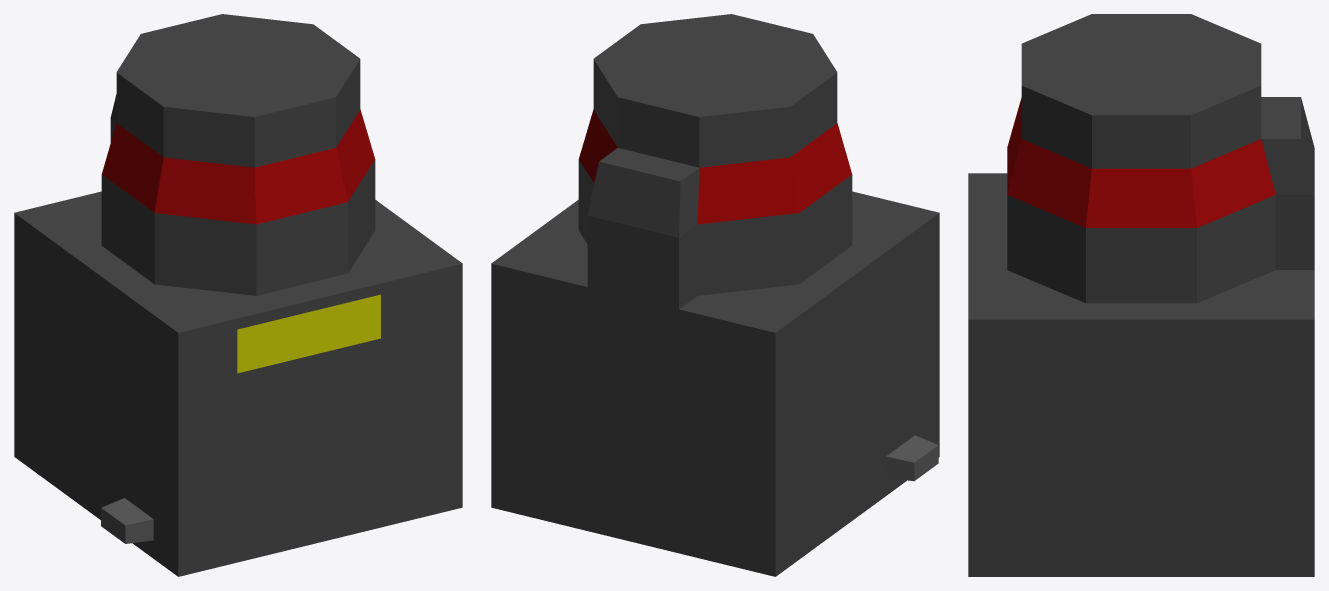
Rendered from hokuyo.dae.
The picture shows the model from 3 angles, left to right: view 1: azimuth 30°, elevation 25°; view 2: azimuth 150°, elevation 25°; view 3: azimuth 270°, elevation 25°; orthographic projection. The views are drawn at different scales.
Visible parts, largest first — view 1: Mesh_002, Mesh_003, Mesh, Mesh_001; view 2: Mesh_002, Mesh_003, Mesh_001; view 3: Mesh_002, Mesh_003.
Boxes of the visible parts, x1,y1,x2,y2 form: Mesh_002: (14,14,462,576); Mesh_003: (102,109,374,224); Mesh: (237,294,380,373); Mesh_001: (101,498,153,543); Mesh_002: (491,14,939,576); Mesh_003: (579,109,851,224); Mesh_001: (886,435,938,481); Mesh_002: (968,14,1314,576); Mesh_003: (1007,98,1275,227).
Bounding box in the file's own units: 5.46 × 5 × 7.
